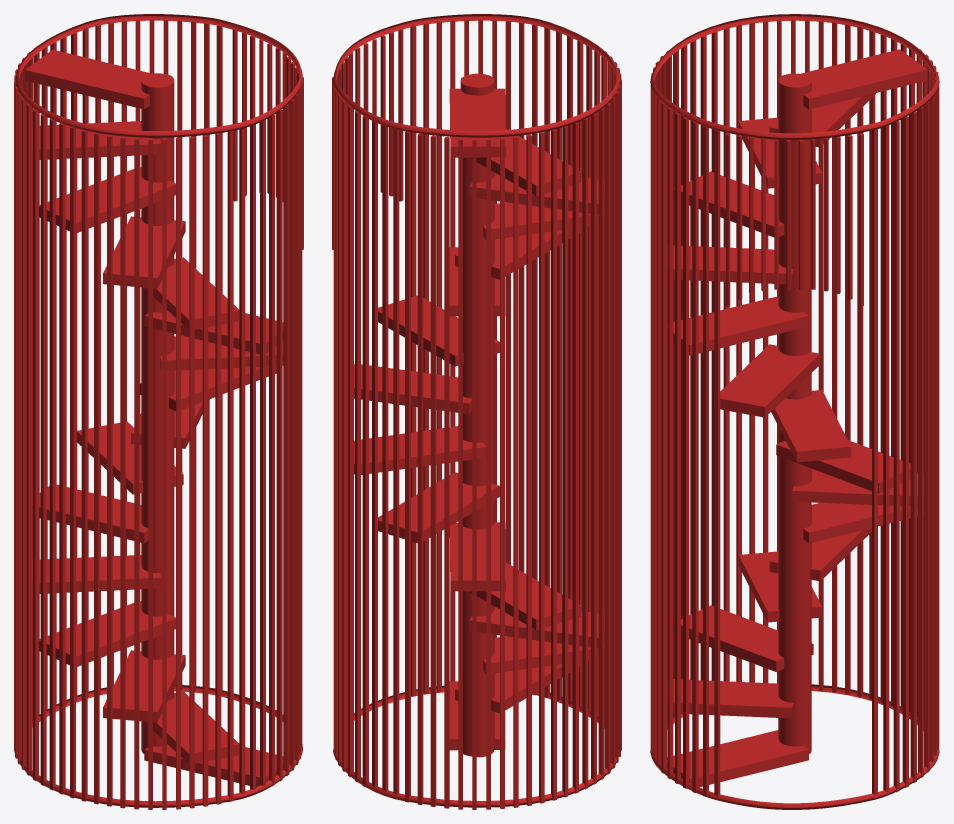
The model's file is stair_test.fbx.
3 renders of one model, left to right at view 1: azimuth 30°, elevation 25°; view 2: azimuth 150°, elevation 25°; view 3: azimuth 270°, elevation 25°, orthographic.
Visible parts, largest first — view 1: BezierCurve, Cube, Cylinder, BezierCircle_001, BezierCircle_000; view 2: BezierCurve, Cube, Cylinder, BezierCircle_001, BezierCircle_000; view 3: BezierCurve, Cube, Cylinder, BezierCircle_001, BezierCircle_000.
Boxes of the visible parts, x1,y1,x2,y2 form: BezierCurve: (14, 19, 303, 809); Cube: (25, 49, 283, 786); Cylinder: (141, 73, 174, 753); BezierCircle_001: (15, 14, 302, 137); BezierCircle_000: (17, 685, 302, 807); BezierCurve: (332, 19, 621, 809); Cube: (354, 88, 604, 750); Cylinder: (460, 73, 494, 757); BezierCircle_001: (333, 14, 619, 137); BezierCircle_000: (333, 685, 619, 807); BezierCurve: (650, 19, 939, 800); Cube: (667, 49, 927, 787); Cylinder: (778, 73, 811, 753); BezierCircle_001: (650, 14, 939, 139); BezierCircle_000: (650, 684, 939, 809).
Size of the model in its own units: 0.2611 by 0.675 by 0.2616.
